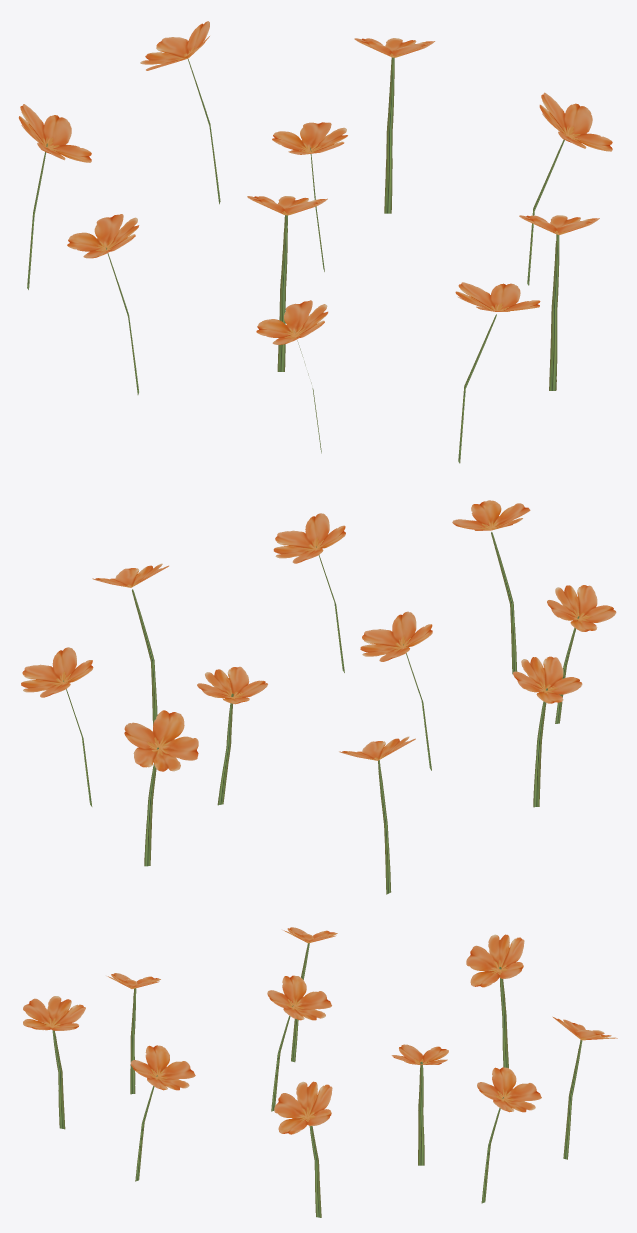
File: SM_Ground_Orange_Flower_D.fbx
The picture shows the model from 3 angles, top to bottom: view 1: azimuth 30°, elevation 25°; view 2: azimuth 150°, elevation 25°; view 3: azimuth 270°, elevation 25°; orthographic projection. The views are drawn at different scales.
Visible parts, largest first — view 1: SM_Ground_Orange_Flower_D_LOD0; view 2: SM_Ground_Orange_Flower_D_LOD0; view 3: SM_Ground_Orange_Flower_D_LOD0.
Boxes of the visible parts, bbox=[...] form: SM_Ground_Orange_Flower_D_LOD0: bbox=[18, 21, 612, 463]; SM_Ground_Orange_Flower_D_LOD0: bbox=[21, 500, 616, 894]; SM_Ground_Orange_Flower_D_LOD0: bbox=[23, 927, 617, 1217].
Size of the model in its own units: 78.96 by 96.71 by 25.38.
Materials: 1 (1 with a texture image).
